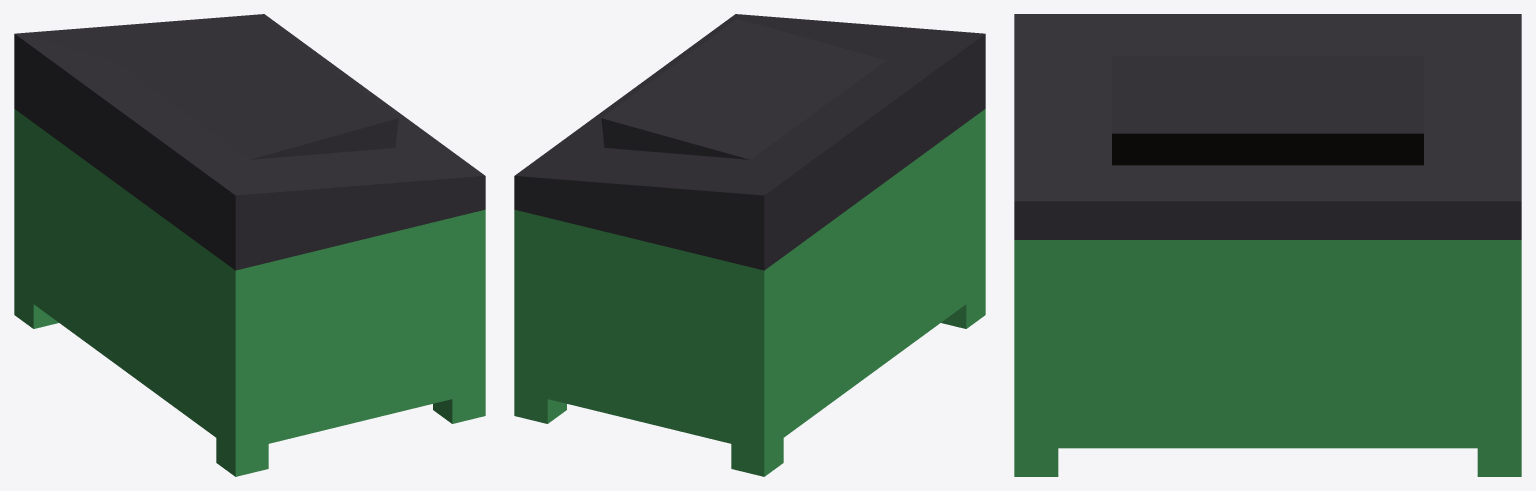
The model's file is trash_large.fbx.
3 views of the same model, side by side, from view 1: azimuth 30°, elevation 25°; view 2: azimuth 150°, elevation 25°; view 3: azimuth 270°, elevation 25° (orthographic). The views are drawn at different scales.
Parts seen in each view (by area): view 1: trash_large; view 2: trash_large; view 3: trash_large.
Part boxes in pixels (x1=…): trash_large: x1=14, y1=14, x2=485, y2=476; trash_large: x1=514, y1=14, x2=985, y2=476; trash_large: x1=1014, y1=14, x2=1521, y2=476.
Bounding box in the file's own units: 231 × 150 × 162.
